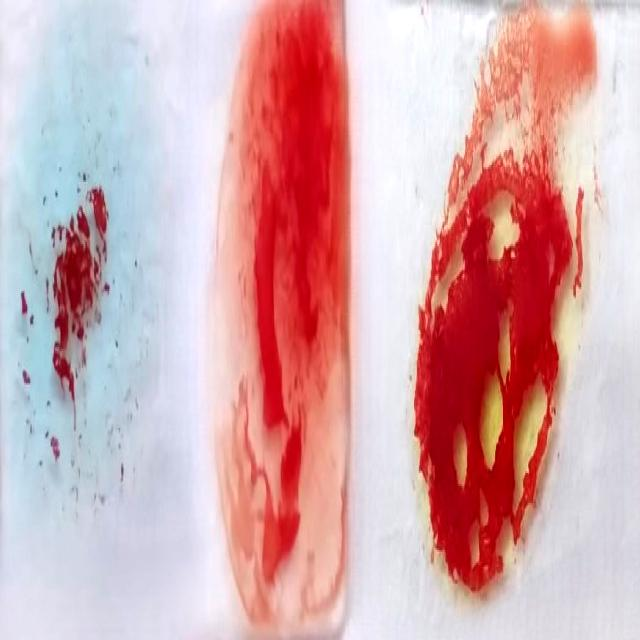A: (6, 10, 143, 563)
B: (417, 25, 595, 589)
D: (220, 8, 354, 628)
